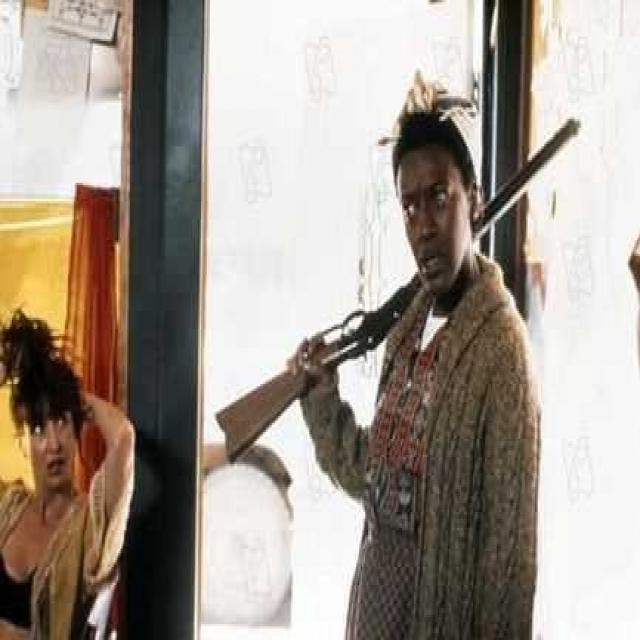weapon: (210, 110, 587, 493)
